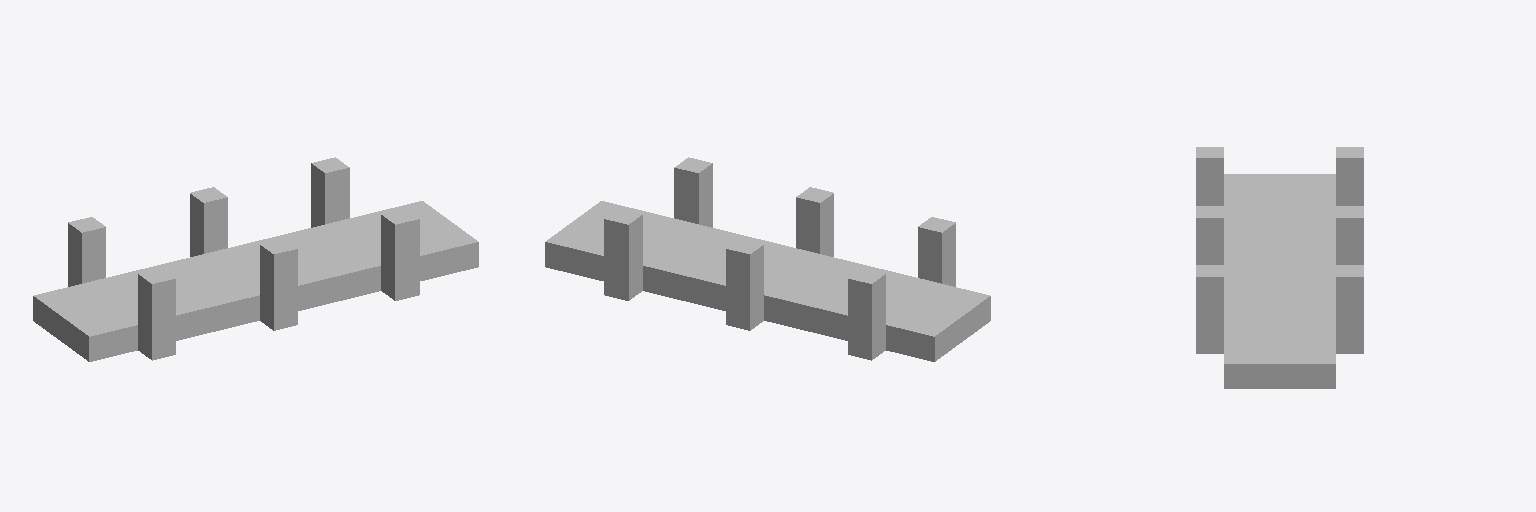
File: end.obj
3 renders of one model, left to right at view 1: azimuth 30°, elevation 25°; view 2: azimuth 150°, elevation 25°; view 3: azimuth 270°, elevation 25°, orthographic.
Parts seen in each view (by area): view 1: object 1; view 2: object 1; view 3: object 1.
Part boxes in pixels (bbox=[...]): object 1: bbox=[33, 157, 478, 361]; object 1: bbox=[545, 157, 990, 361]; object 1: bbox=[1196, 147, 1363, 388].
Size of the model in its own units: 1.6 by 0.3 by 0.6.